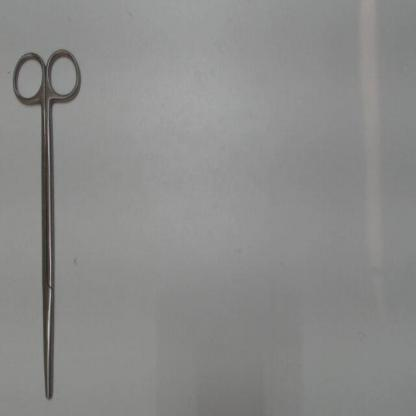9 Metzenbaum Scissors: (10, 43, 85, 403)
